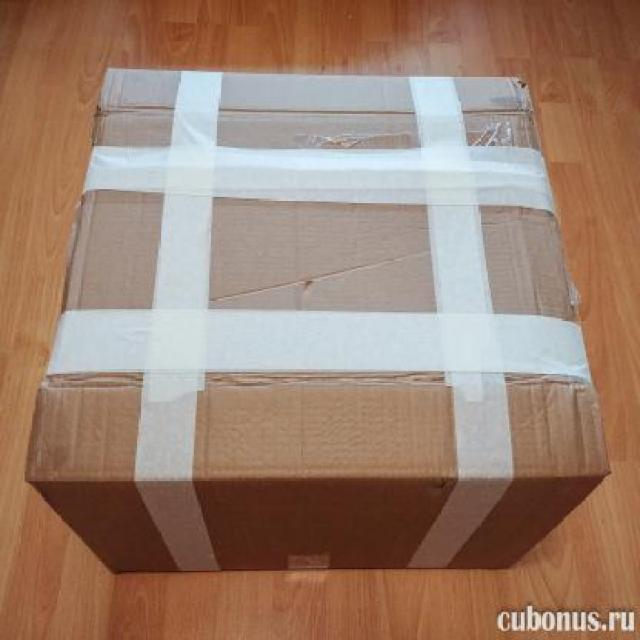box: (23, 62, 610, 580)
